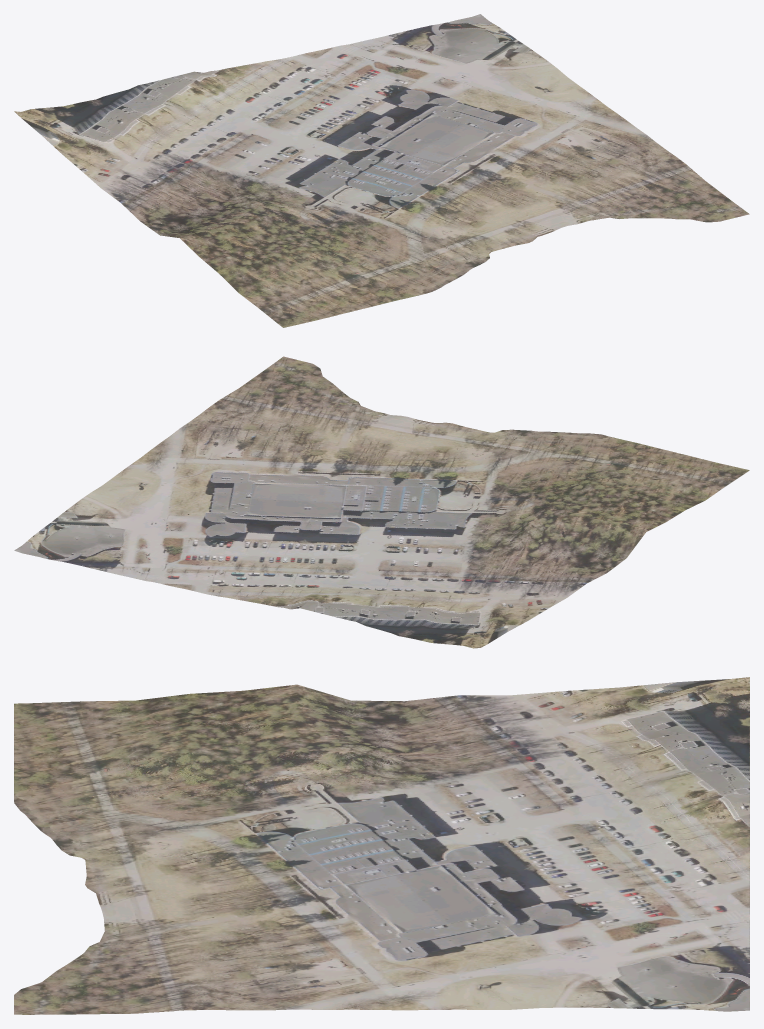
File: CM_Terrain_24491687_6815493.fbx
The picture shows the model from 3 angles, top to bottom: view 1: azimuth 30°, elevation 25°; view 2: azimuth 150°, elevation 25°; view 3: azimuth 270°, elevation 25°; orthographic projection. The views are drawn at different scales.
Visible parts, largest first — view 1: CM_Terrain_24491687_6815493_LOD0; view 2: CM_Terrain_24491687_6815493_LOD0; view 3: CM_Terrain_24491687_6815493_LOD0.
Part boxes in pixels (<box>): CM_Terrain_24491687_6815493_LOD0: <box>14,14,749,327</box>; CM_Terrain_24491687_6815493_LOD0: <box>14,356,749,648</box>; CM_Terrain_24491687_6815493_LOD0: <box>14,677,749,1014</box>.
Size of what is drawn, in the model's own units: 205 by 8.45 by 205.
